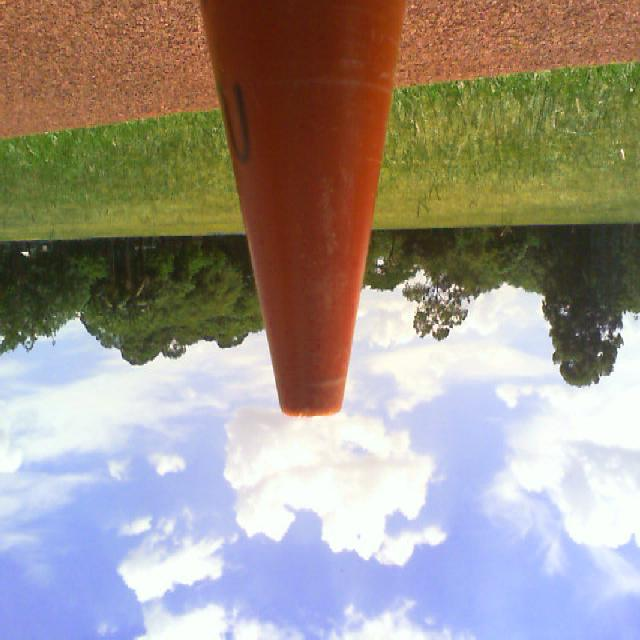cone: (193, 0, 404, 416)
